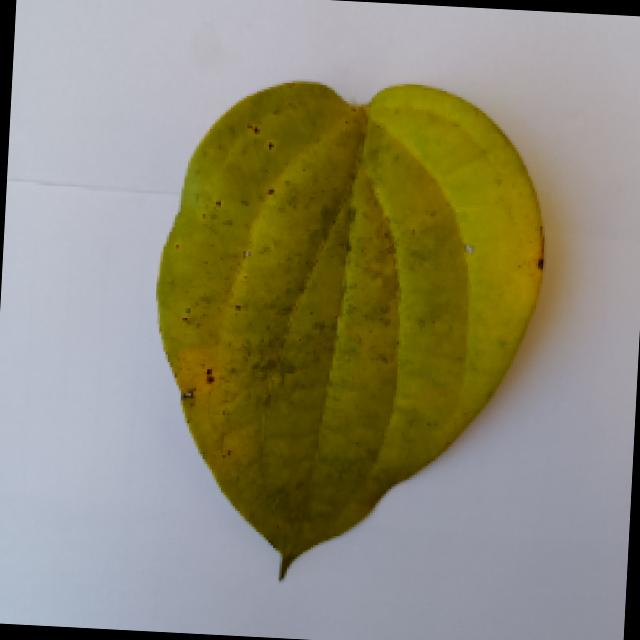slow-decline: (132, 71, 570, 592)
